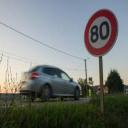speed_limit_80: (84, 9, 118, 54)
